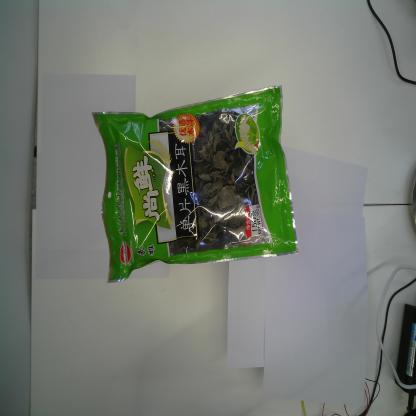Dried Food: (92, 84, 299, 284)
